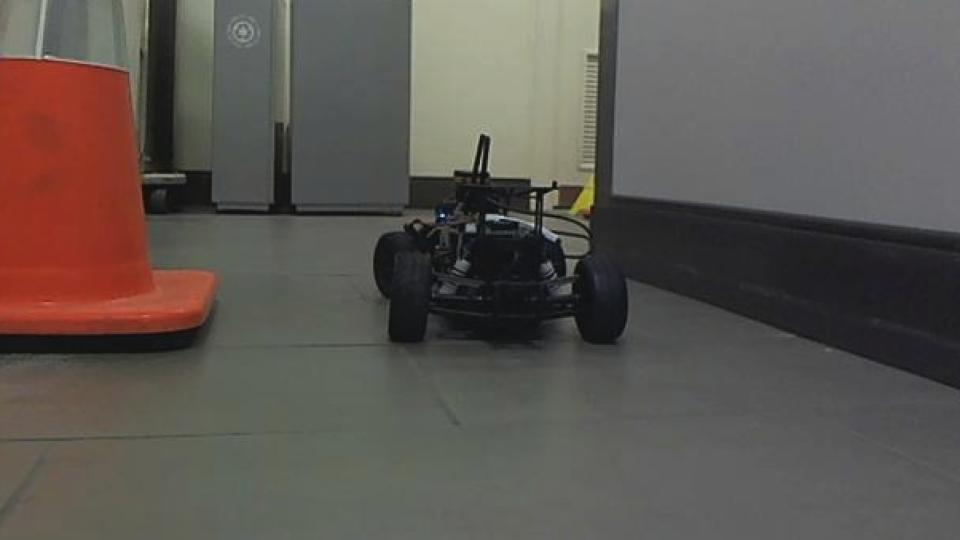car: (368, 133, 630, 348)
